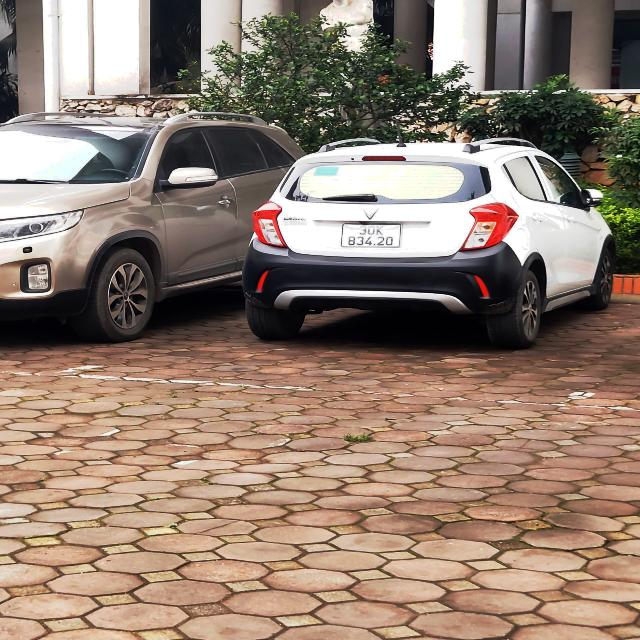license_plate: (343, 224, 403, 248)
